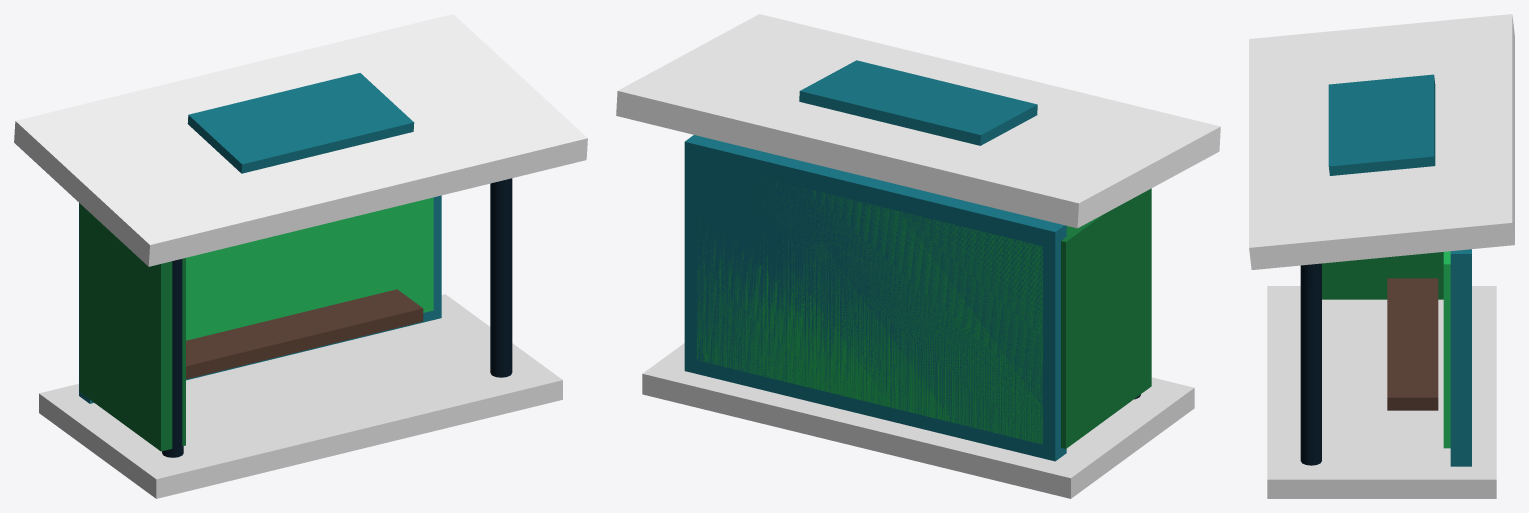
File: halte_teduh.glb
3 renders of one model, left to right at view 1: azimuth 30°, elevation 25°; view 2: azimuth 150°, elevation 25°; view 3: azimuth 270°, elevation 25°, orthographic. The views are drawn at different scales.
Visible parts, largest first — view 1: halte_teduh; view 2: halte_teduh; view 3: halte_teduh.
Boxes of the visible parts, x1=… form: halte_teduh: x1=14, y1=14, x2=587, y2=498; halte_teduh: x1=616, y1=14, x2=1220, y2=498; halte_teduh: x1=1249, y1=14, x2=1514, y2=498.
Bounding box in the file's own units: 5.6 × 3.58 × 3.01.
